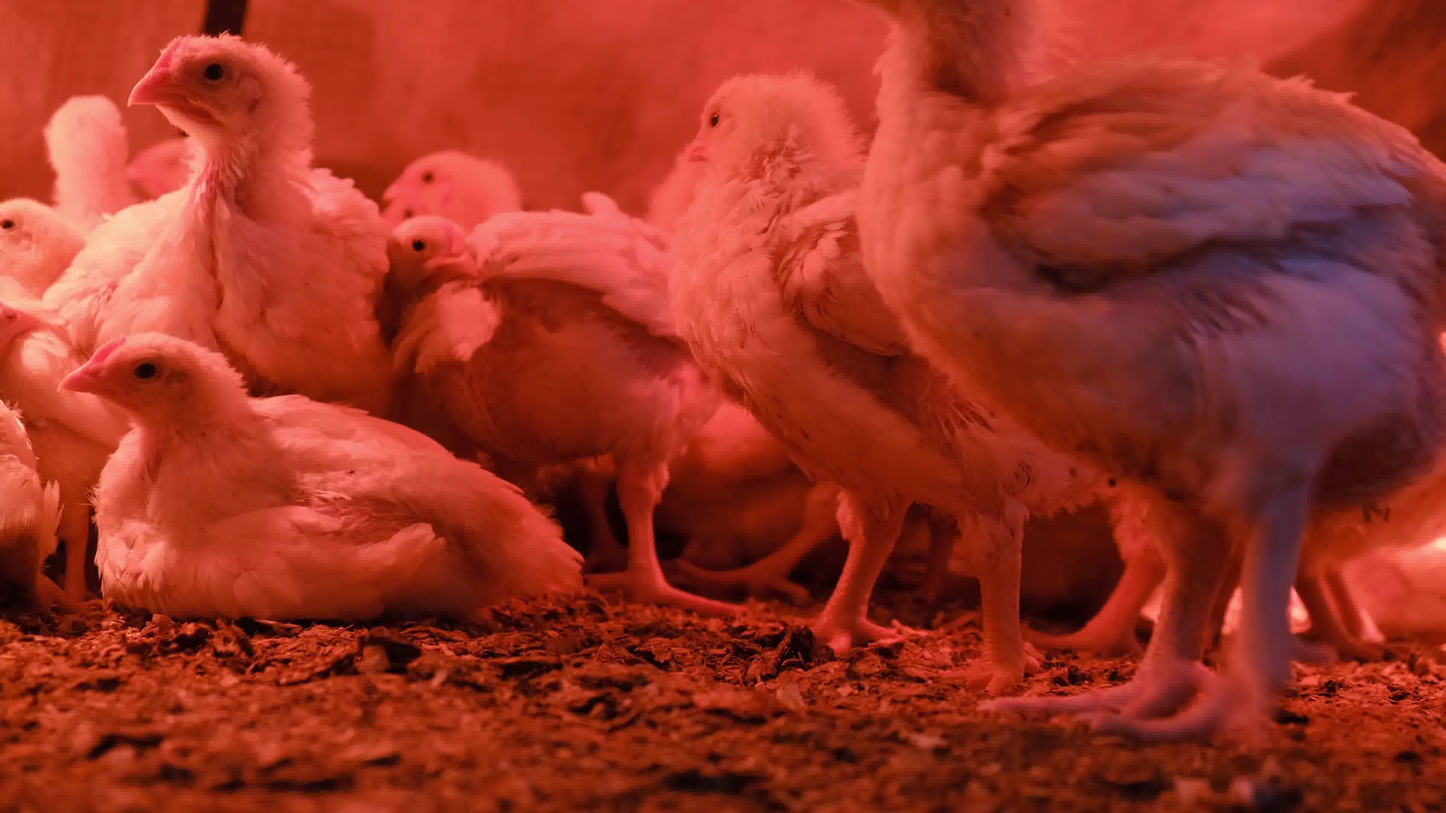AbNormal: (32, 318, 593, 659), (0, 248, 104, 644)
Normal: (825, 0, 1442, 813), (668, 51, 1047, 689), (435, 162, 785, 598), (92, 15, 403, 359), (386, 107, 527, 256), (360, 198, 499, 341), (0, 115, 98, 290), (107, 117, 241, 243), (32, 77, 134, 215)
